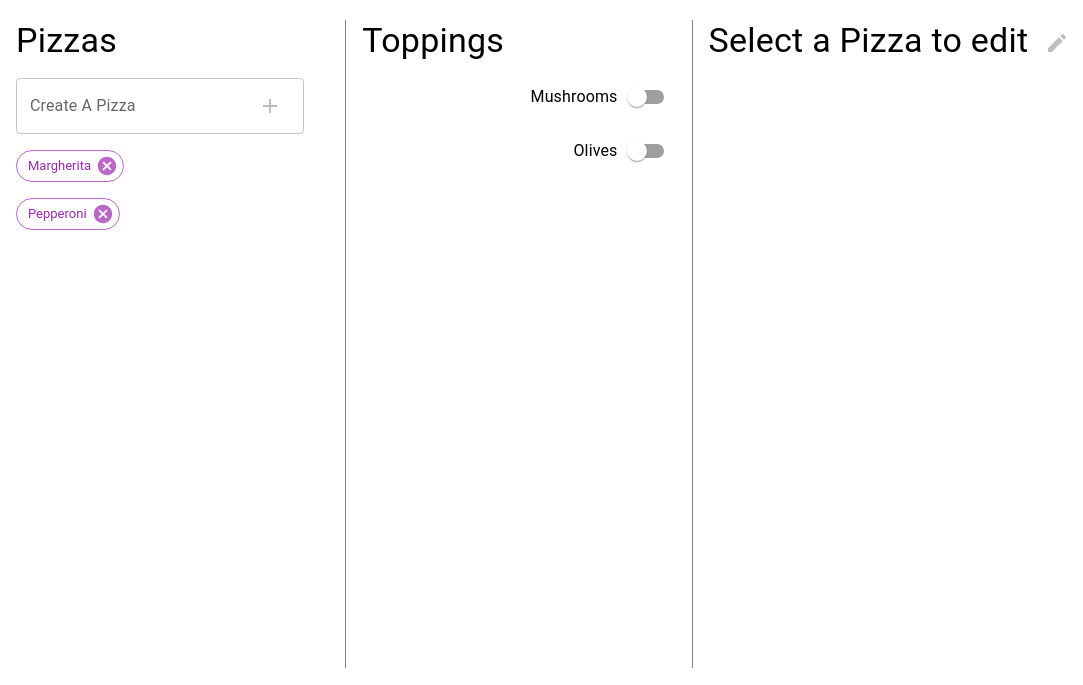
Test: Chefs › does not update a pizza to a duplicate name, and it does clear the input
The width and height of the screenshot is (1083, 685).
Click the button "Margherita": (70, 166) [16,150,124,182]
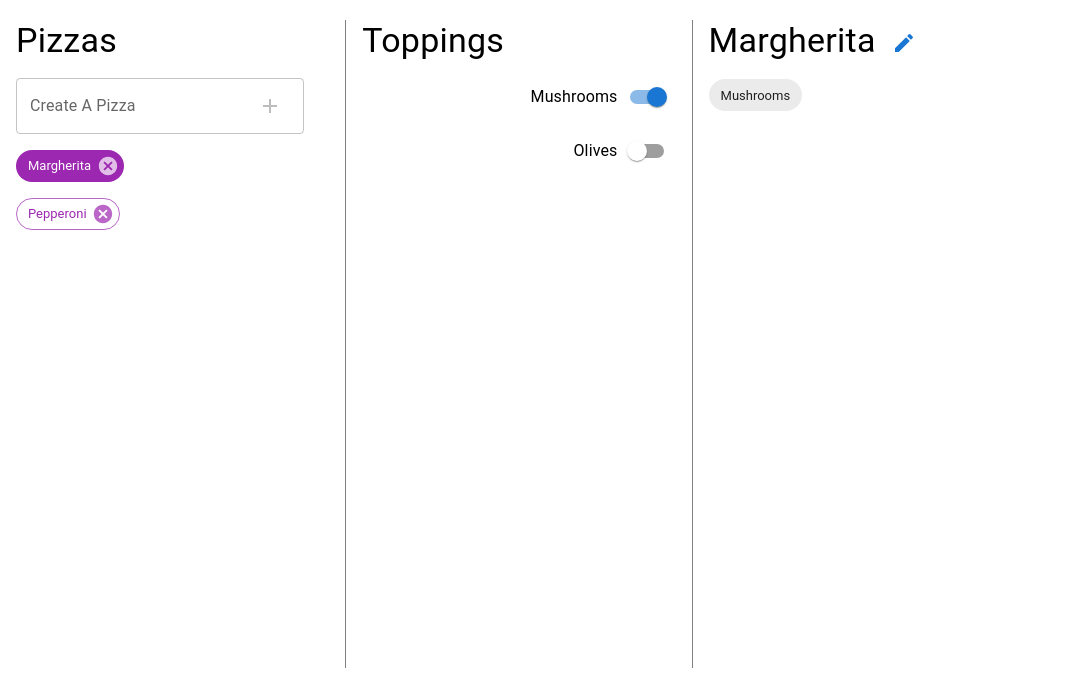
Click the button with test id "edit-button": (904, 43) [884,23,924,63]
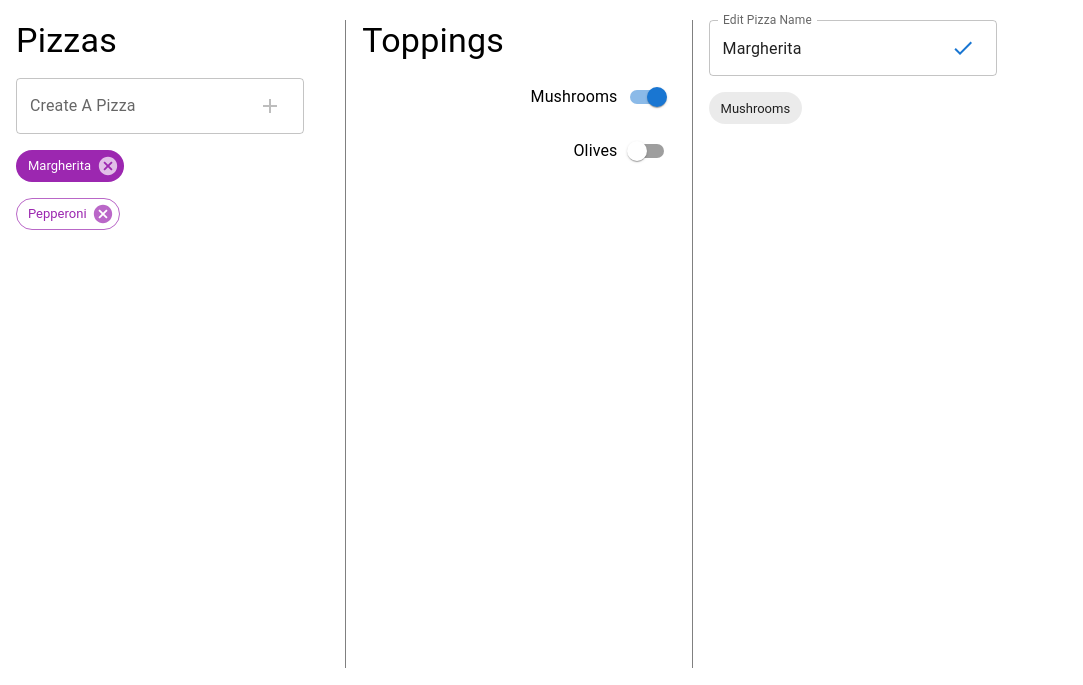
Replace the text in the field labelled "Edit Pizza Name" with "Pepperoni": (826, 48) [708,20,942,76]
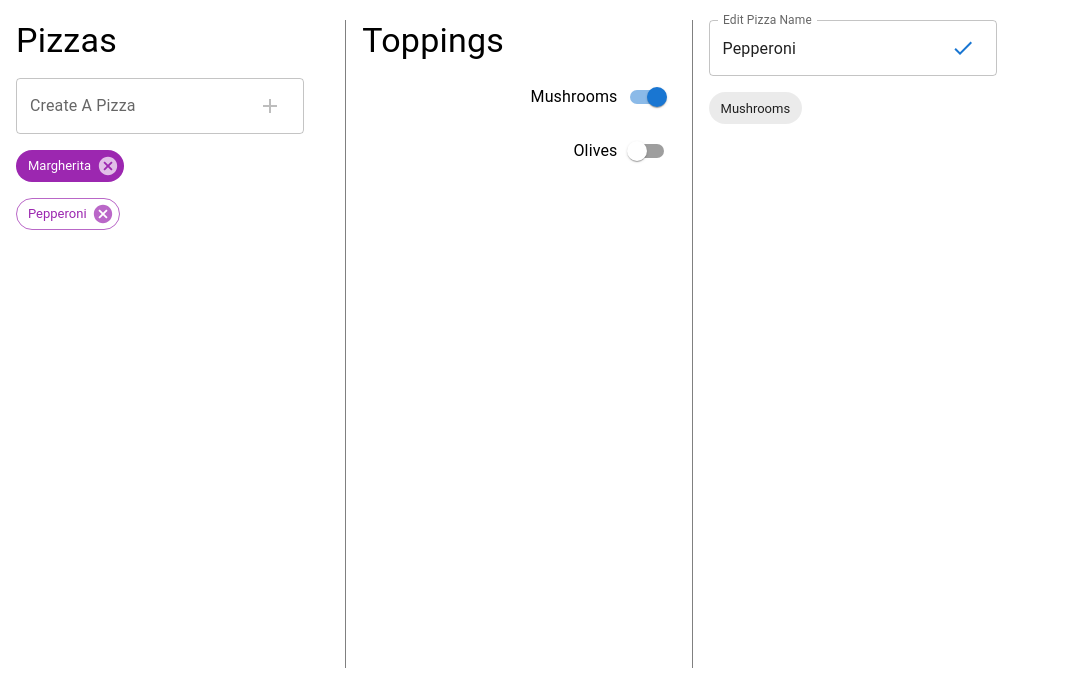
Click the button with test id "submit-button": (962, 48) [942,28,982,68]
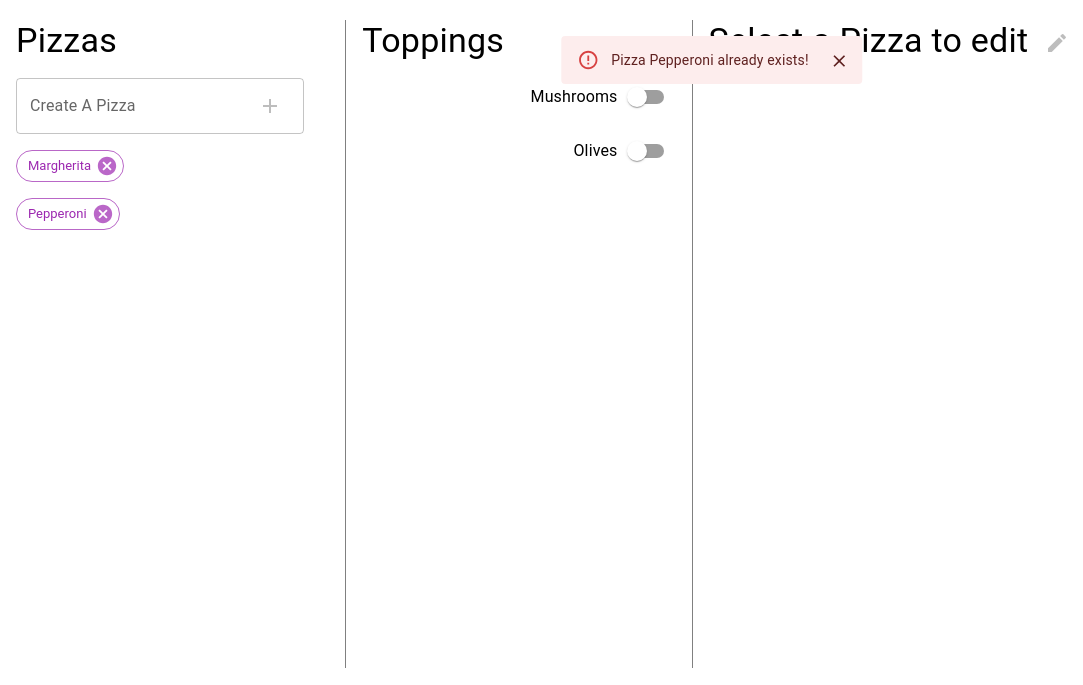
Check: the element with test id "editable-title-static-text" reads "Select a Pizza to edit", box [708,20,1028,60]
